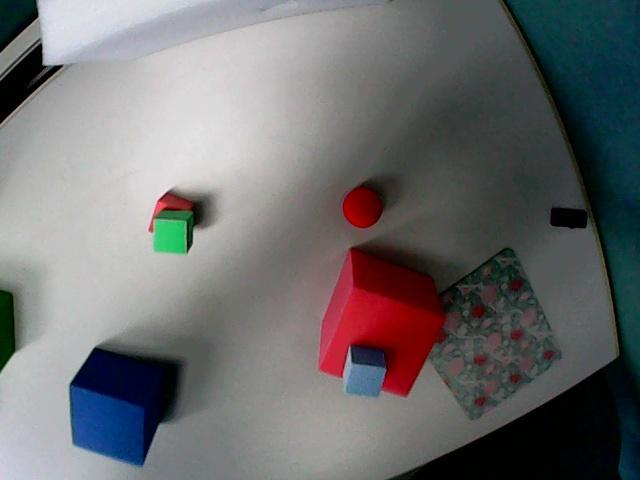blue_block: (70, 348, 169, 465), (343, 345, 386, 396)
red_block: (319, 249, 443, 395), (149, 193, 193, 232)
